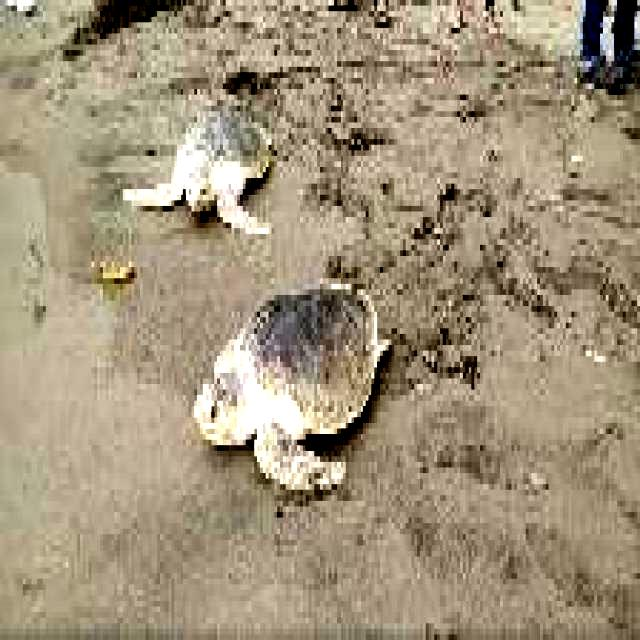Sea turtle: (192, 274, 398, 510), (121, 112, 277, 244)
